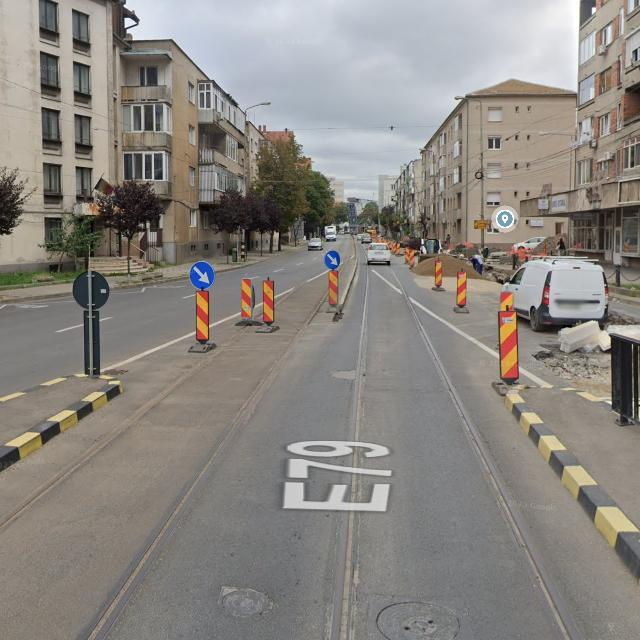mand_pass_right: (190, 261, 214, 290), (324, 250, 340, 269)
